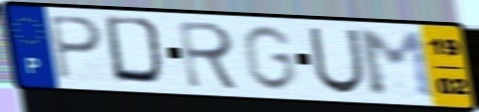D: (101, 14, 172, 89)
G: (239, 23, 299, 93)
M: (353, 29, 442, 101)
P: (46, 13, 106, 83)
R: (176, 19, 244, 93)
U: (306, 25, 367, 96)
